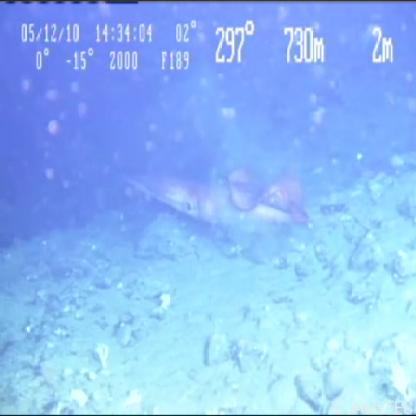Bio: (103, 154, 313, 236)
